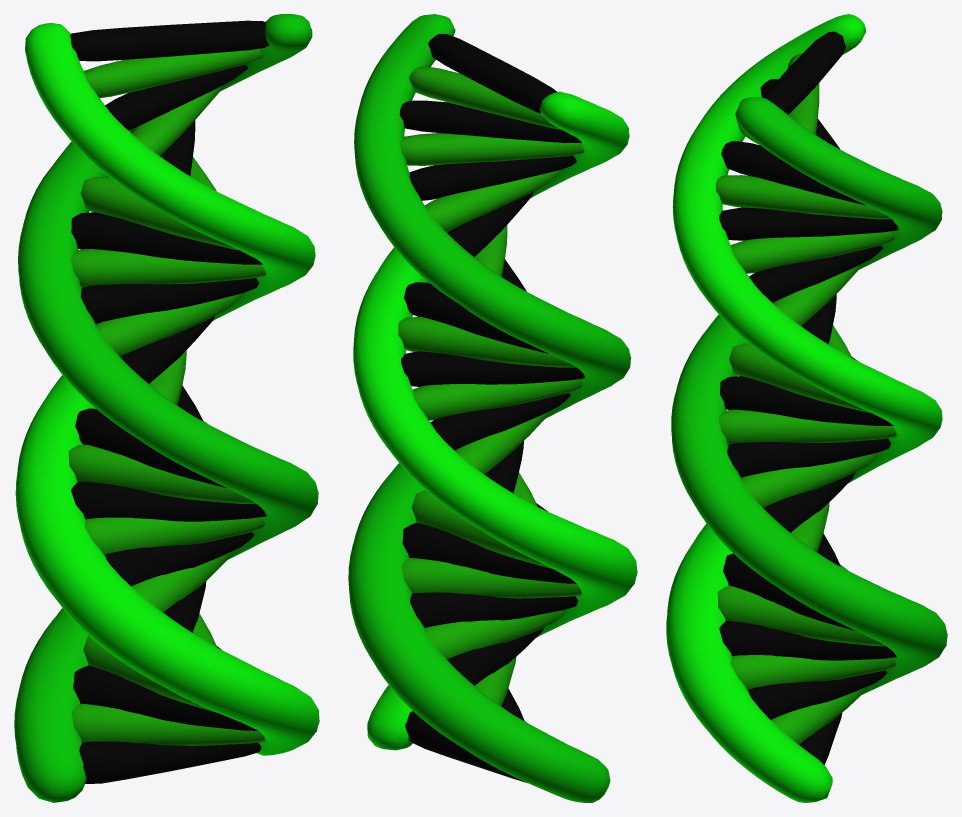
Rendered from DnaHelixGreen.fbx.
3 renders of one model, left to right at view 1: azimuth 30°, elevation 25°; view 2: azimuth 150°, elevation 25°; view 3: azimuth 270°, elevation 25°, orthographic. The views are drawn at different scales.
Parts seen in each view (by area): view 1: Cube_001; view 2: Cube_001; view 3: Cube_001.
Boxes of the visible parts, x1,y1,x2,y2 form: Cube_001: (14, 14, 319, 802); Cube_001: (348, 14, 637, 802); Cube_001: (666, 14, 947, 802).
Size of the model in its own units: 2.18 by 5.97 by 2.2.
